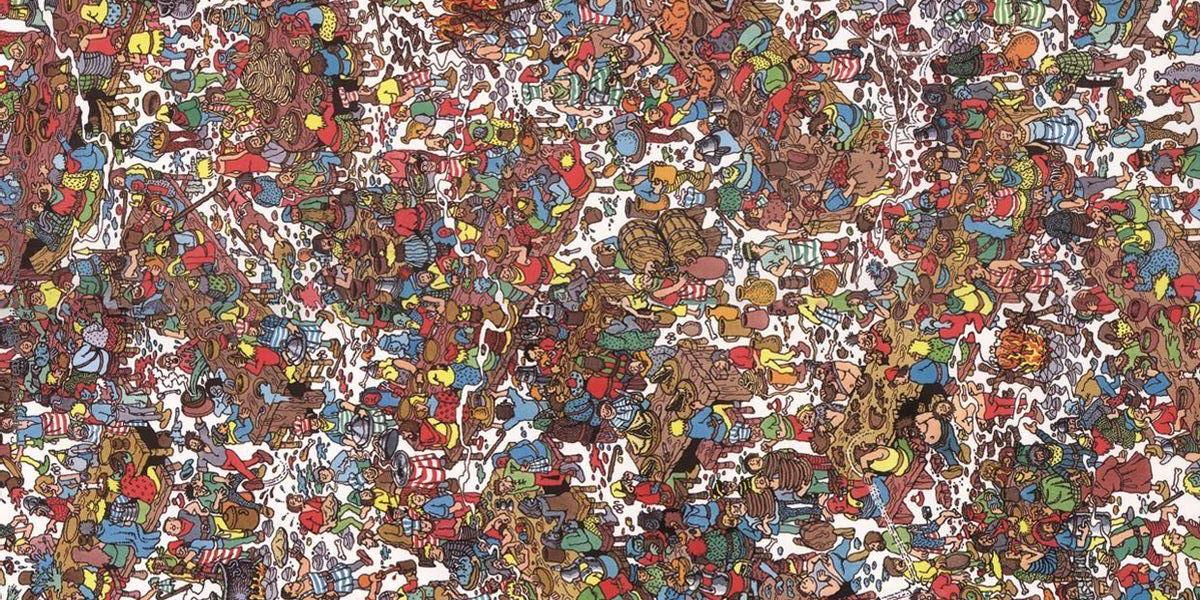waldos: (411, 155, 440, 176)
